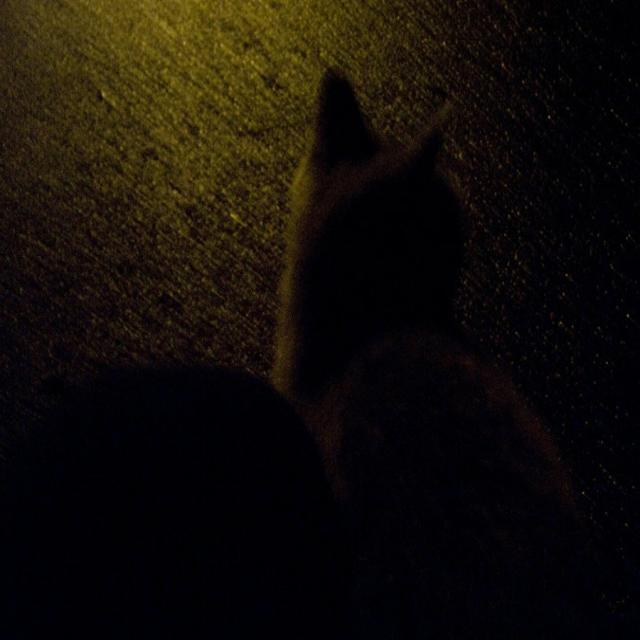Cat: (263, 56, 604, 640)
